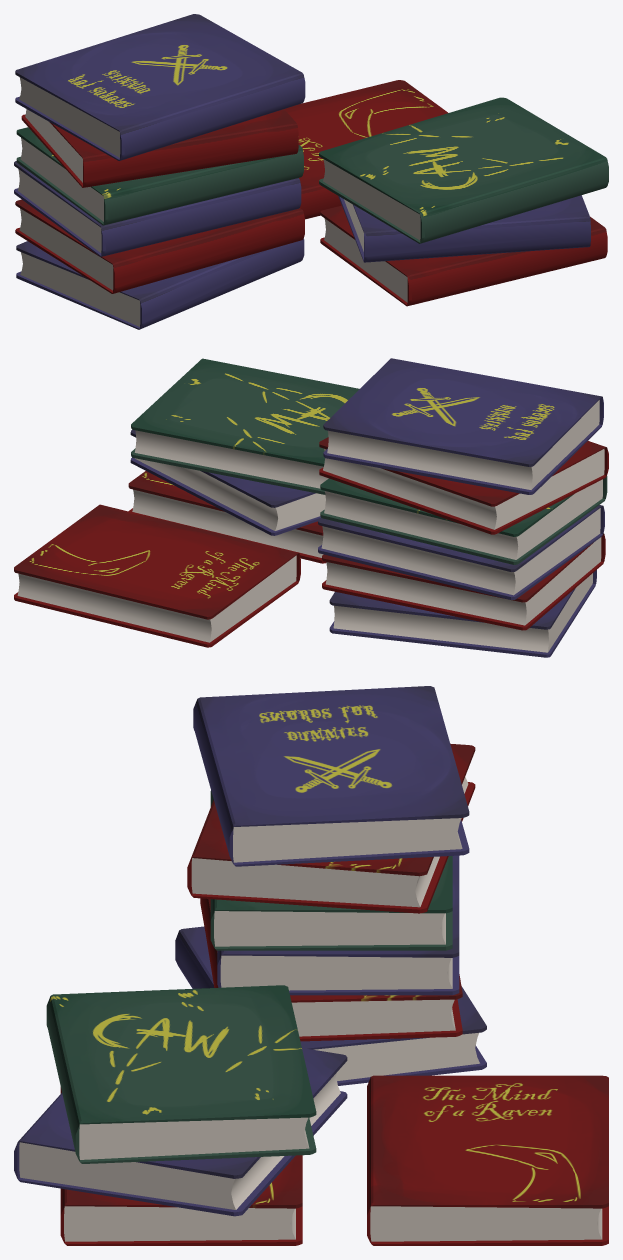
The model's file is BookClosed.fbx.
The picture shows the model from 3 angles, top to bottom: view 1: azimuth 30°, elevation 25°; view 2: azimuth 150°, elevation 25°; view 3: azimuth 270°, elevation 25°; orthographic projection. The views are drawn at different scales.
Visible parts, largest first — view 1: book_stack_tall, book_stack_short, book_single; view 2: book_stack_tall, book_stack_short, book_single; view 3: book_stack_tall, book_stack_short, book_single.
Boxes of the visible parts, box(x1,y1,x2,y2) form: book_stack_tall: box(14, 14, 305, 329); book_stack_short: box(319, 97, 608, 306); book_single: box(284, 80, 447, 219); book_stack_tall: box(318, 358, 608, 657); book_stack_short: box(128, 358, 359, 563); book_single: box(14, 504, 300, 647); book_stack_tall: box(175, 686, 486, 1085); book_stack_short: box(14, 985, 347, 1245); book_single: box(367, 1075, 608, 1245).
Size of the model in its own units: 31.44 by 12.32 by 25.17.
Materials: 4 (3 with a texture image).
